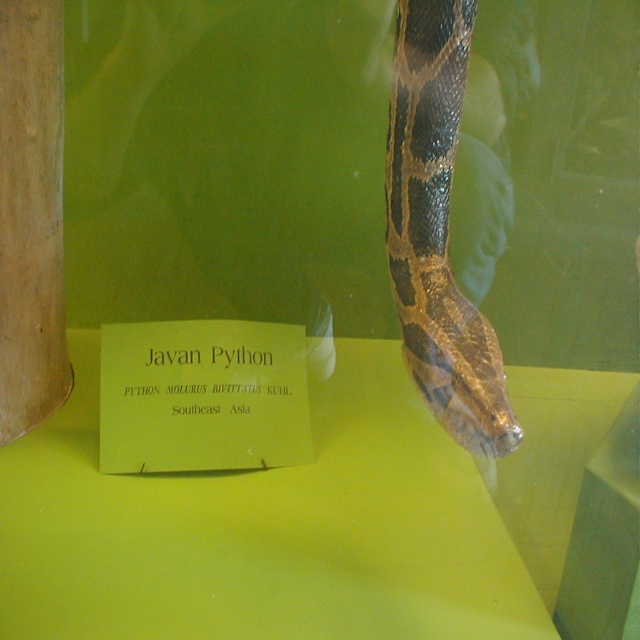Snake: (384, 0, 525, 461)
